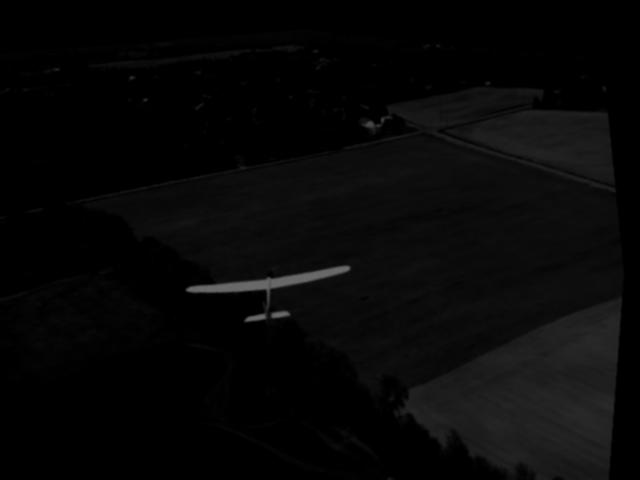hedef: (174, 231, 372, 355)
